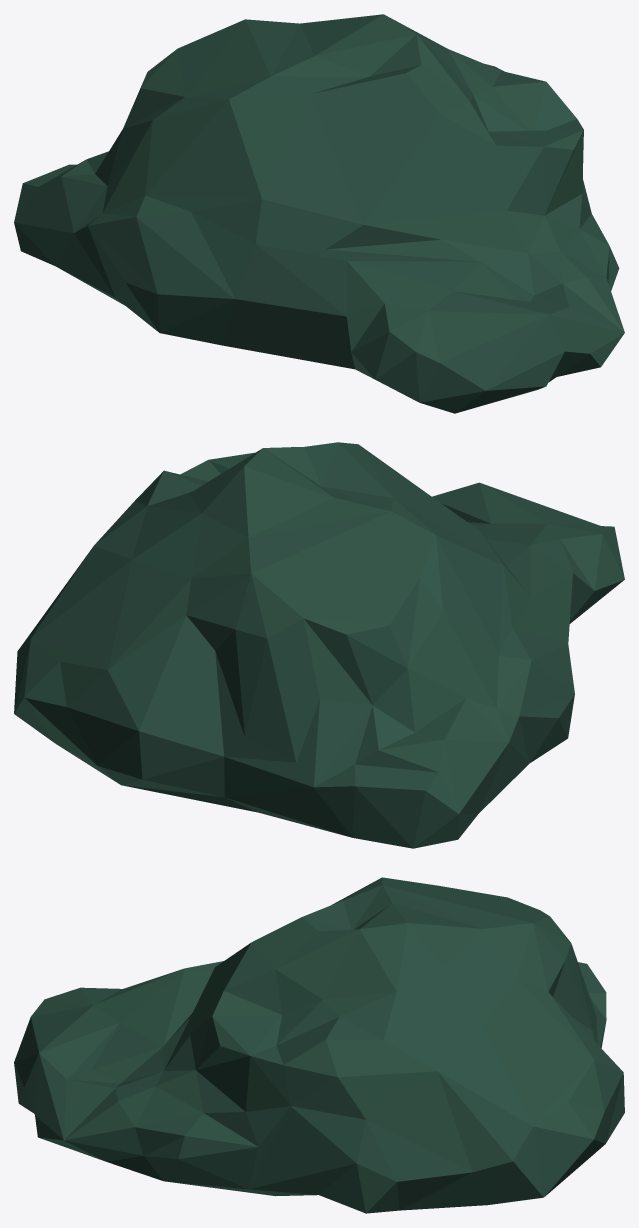
The model's file is SM_large_rock_44.fbx.
3 renders of one model, top to bottom at view 1: azimuth 30°, elevation 25°; view 2: azimuth 150°, elevation 25°; view 3: azimuth 270°, elevation 25°, orthographic. The views are drawn at different scales.
Visible parts, largest first — view 1: large_rock_44; view 2: large_rock_44; view 3: large_rock_44.
Boxes of the visible parts, bbox=[...] form: large_rock_44: bbox=[14, 14, 624, 413]; large_rock_44: bbox=[14, 442, 624, 848]; large_rock_44: bbox=[14, 877, 624, 1213].
Bounding box in the file's own units: 74.59 × 36.38 × 89.96.
